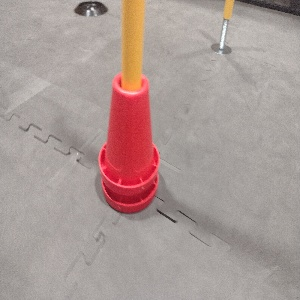Red_2: (96, 70, 161, 216)
